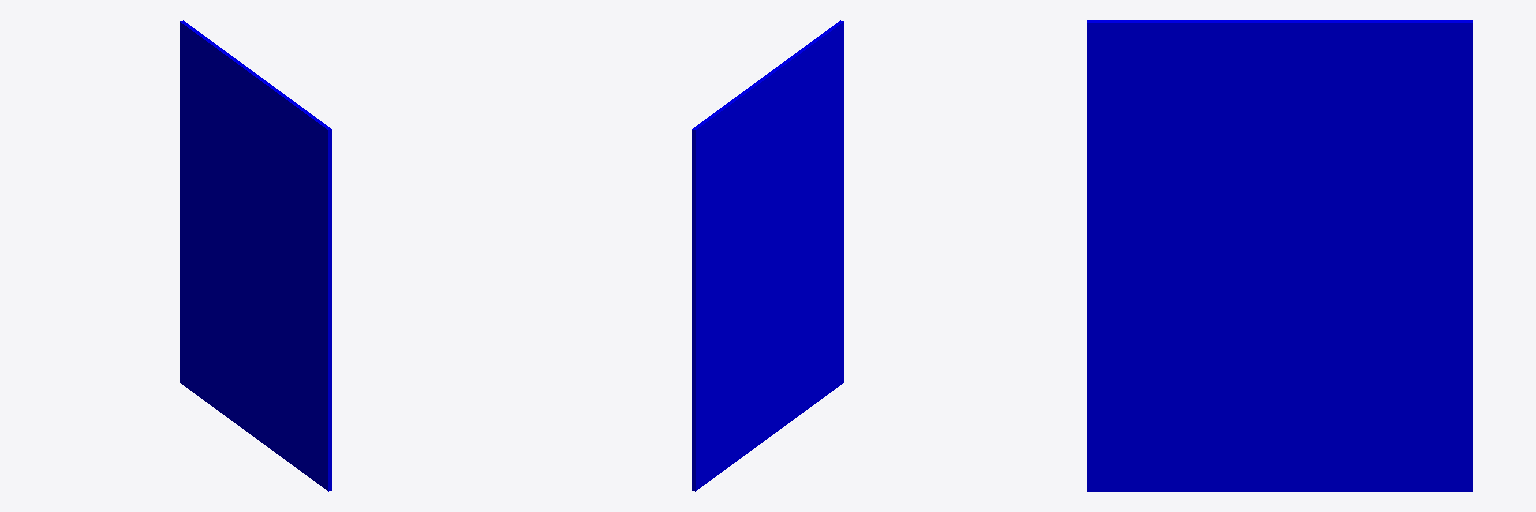
URDF robot description (wall):
<?xml version="1.0"?>
<robot name="wall">

  <link name="main">
    <collision>
      <geometry>
        <box size="0.01 0.6 0.8"/>
      </geometry>
    </collision>
    <visual>
      <geometry>
        <box size="0.009 0.59 0.79"/>
      </geometry>
      <material name="blue">
        <color rgba="0 0 1 1"/>
      </material>
    </visual>
  </link>

</robot>

--- Render facts (derived) ---
3 views of the same robot in one strip: view 1: azimuth 30°, elevation 25°; view 2: azimuth 150°, elevation 25°; view 3: azimuth 270°, elevation 25° (orthographic).
Robot: wall — 1 links, 0 joints (none); root link main; default pose: all joints at 0.
Links seen in each view (by area): view 1: main; view 2: main; view 3: main.
Boxes of the visible links, <box> form: main: <box>180,20,331,491</box>; main: <box>692,20,843,491</box>; main: <box>1087,20,1472,491</box>.
Bounding box of the posed robot: 0.009 × 0.59 × 0.79 m (x, y, z).
Geometry: primitives only (box / cylinder / sphere), no mesh files.
